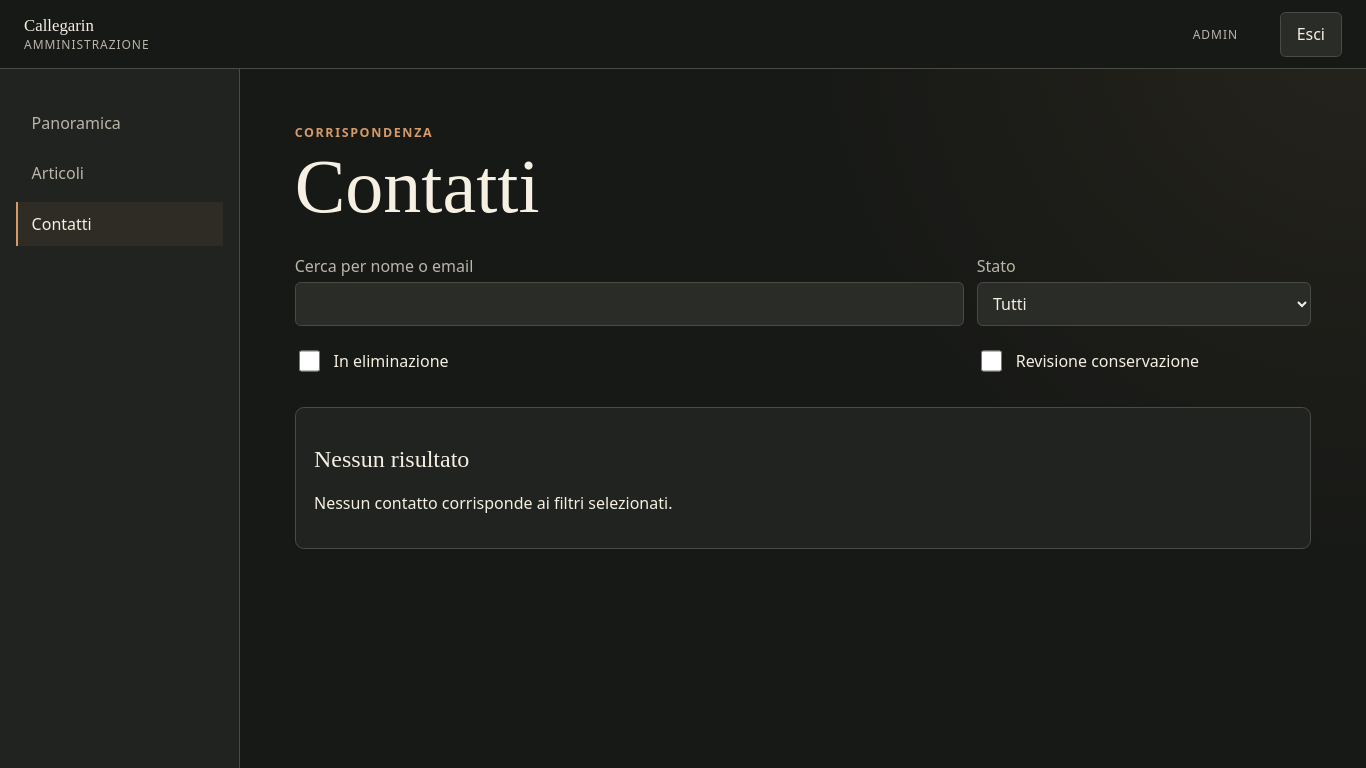
Test case: admin shell › aborts and ignores an old sparse chain after the query changes
Expected: the text "Nessun contatto corrisponde ai filtri selezionati." is shown, [314,492,672,514]
Type "vecchia" into the search field labelled "Cerca per nome o email".
click(629, 304); type("vecchia")  # box [295,282,964,326]
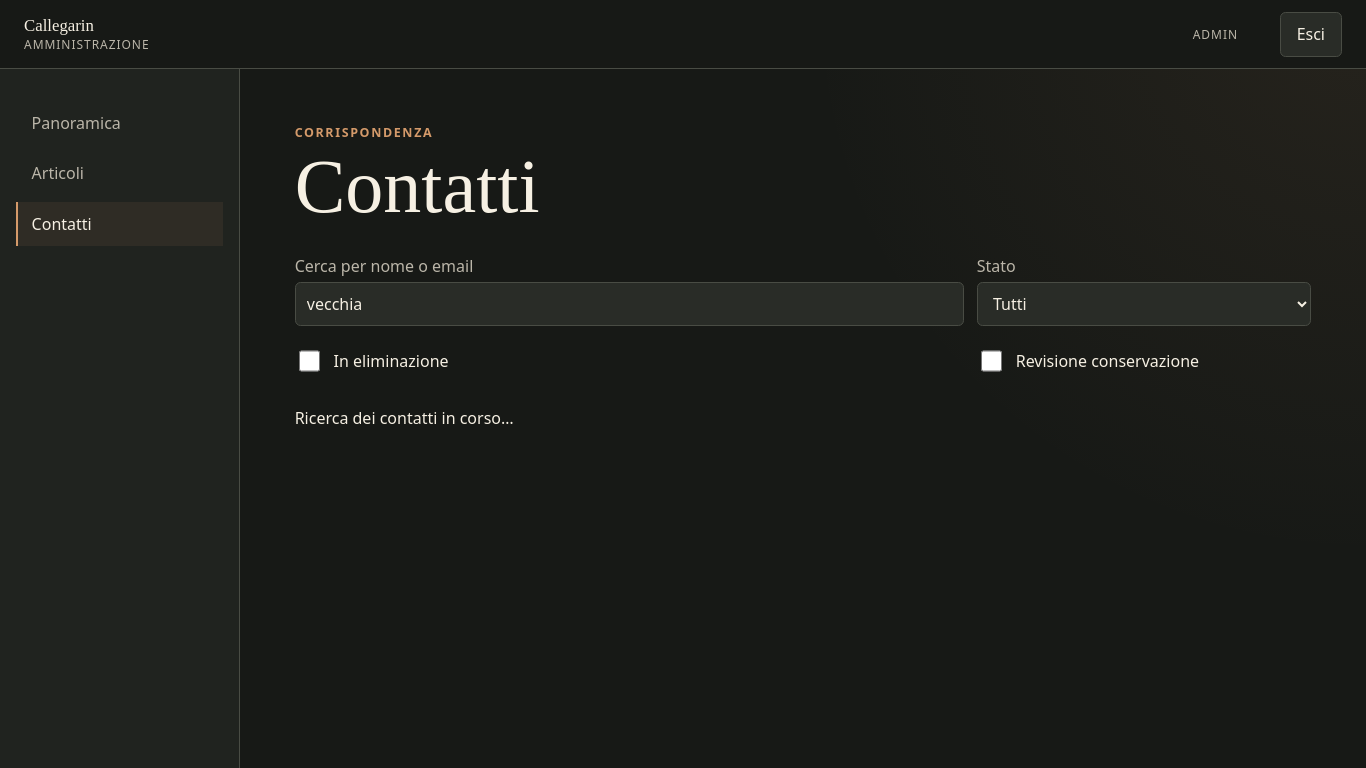
Replace the text in the search field labelled "Cerca per nome o email" with "attuale" at {"x": 629, "y": 304}, box [295,282,964,326]
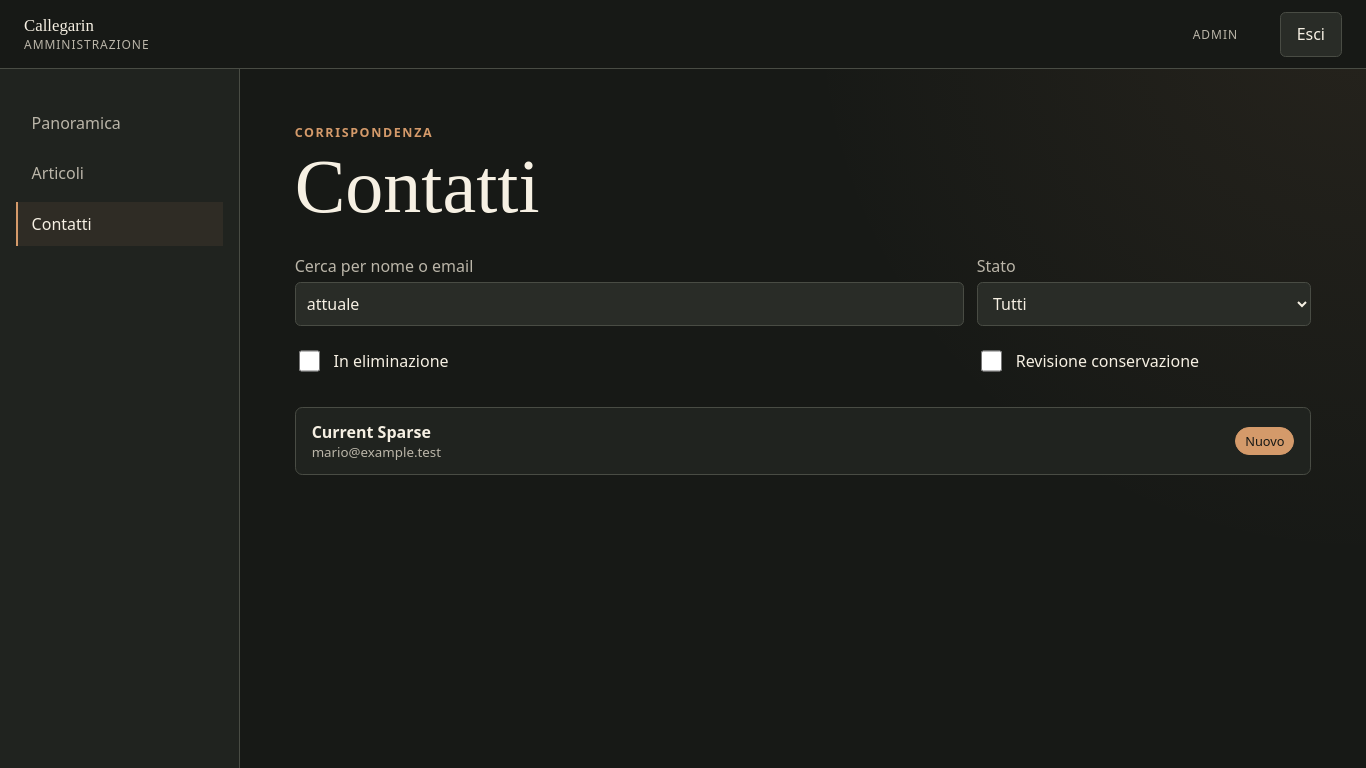
Expected: the text "Current Sparse" is shown, [312,421,441,443]
Expected: the message "Ricerca dei contatti in corso…" is gone
